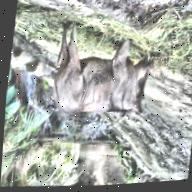boar: (47, 31, 169, 136)
